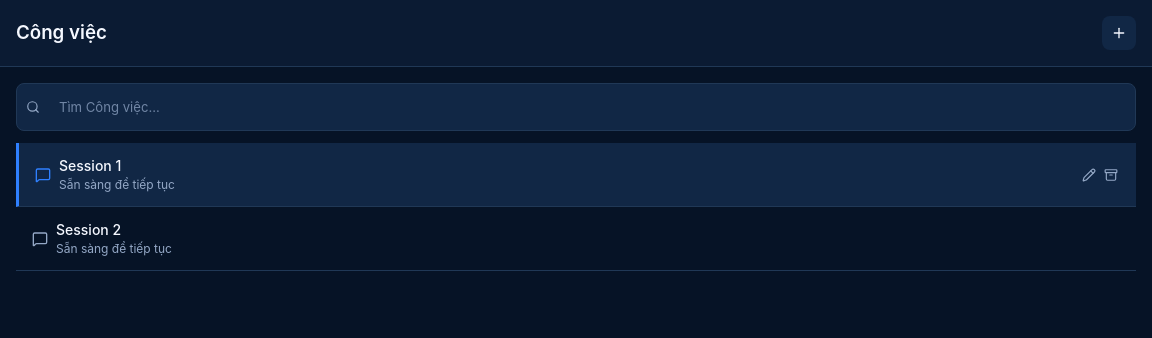
Test: SessionList › hiển thị lỗi inline khi lưu trữ phiên thất bại
Click the button titled "Lưu trữ Công việc": (1111, 175) top-left (1101, 166), bottom-right (1120, 184)
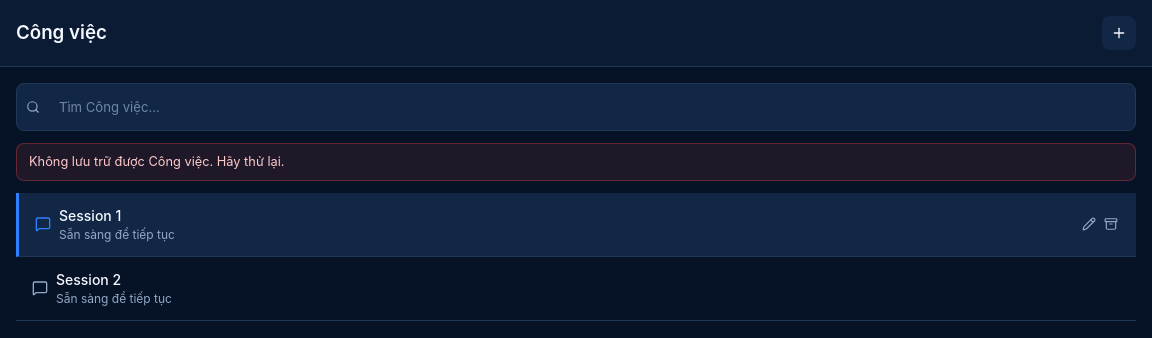
expect the text "Không lưu trữ được Công việc. Hãy thử lại." is shown: met, box top-left (16, 143), bottom-right (1136, 181)
